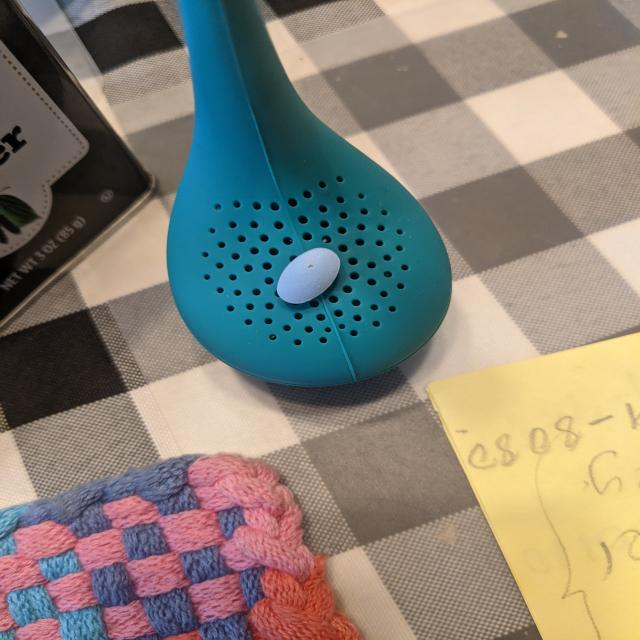non-organic waste: (275, 246, 342, 305)
